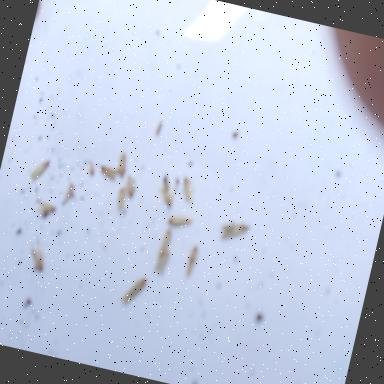pbw: (123, 274, 147, 306), (220, 220, 249, 244), (30, 158, 50, 183), (178, 178, 196, 204), (28, 249, 46, 272), (185, 247, 199, 276), (158, 230, 172, 258), (168, 214, 192, 229), (156, 250, 170, 274), (158, 188, 174, 207), (99, 166, 118, 182), (116, 153, 128, 177), (124, 176, 137, 198), (115, 188, 127, 211), (65, 182, 75, 202), (41, 203, 56, 213)
